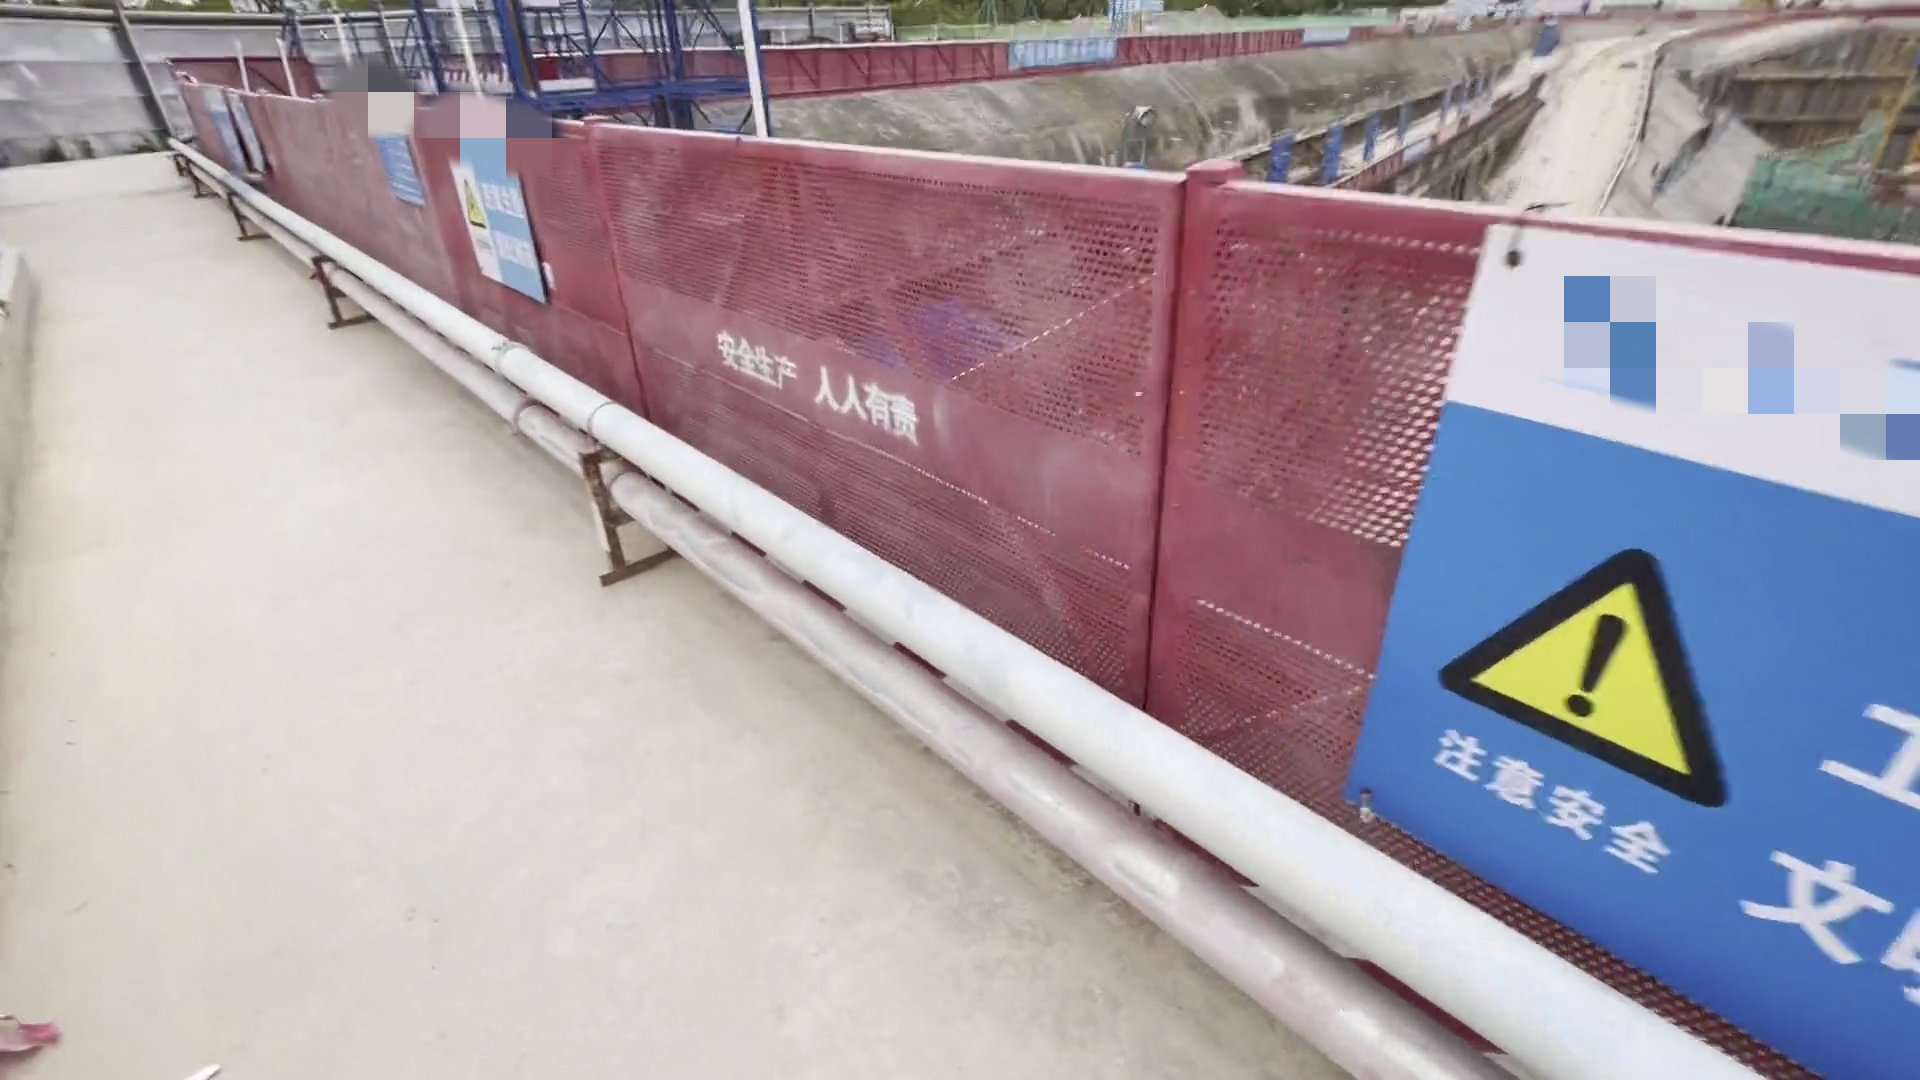fence: (237, 79, 1502, 856)
slogan: (1367, 203, 1920, 1027), (361, 105, 554, 327), (138, 65, 268, 182), (1004, 32, 1131, 75), (1112, 1, 1146, 36)
